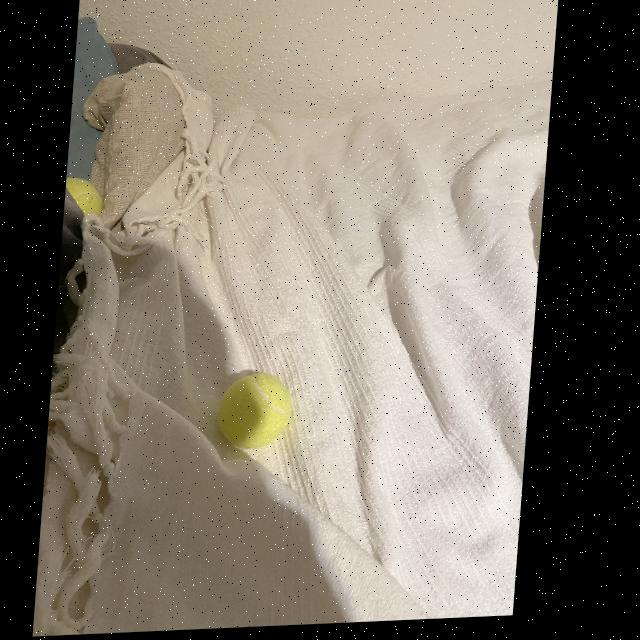Tennisball: (219, 373, 292, 450), (66, 178, 102, 215)
